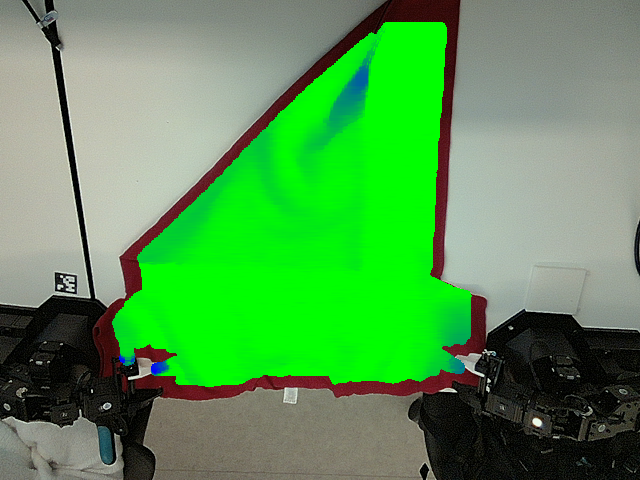V: (326, 236, 376, 280)
